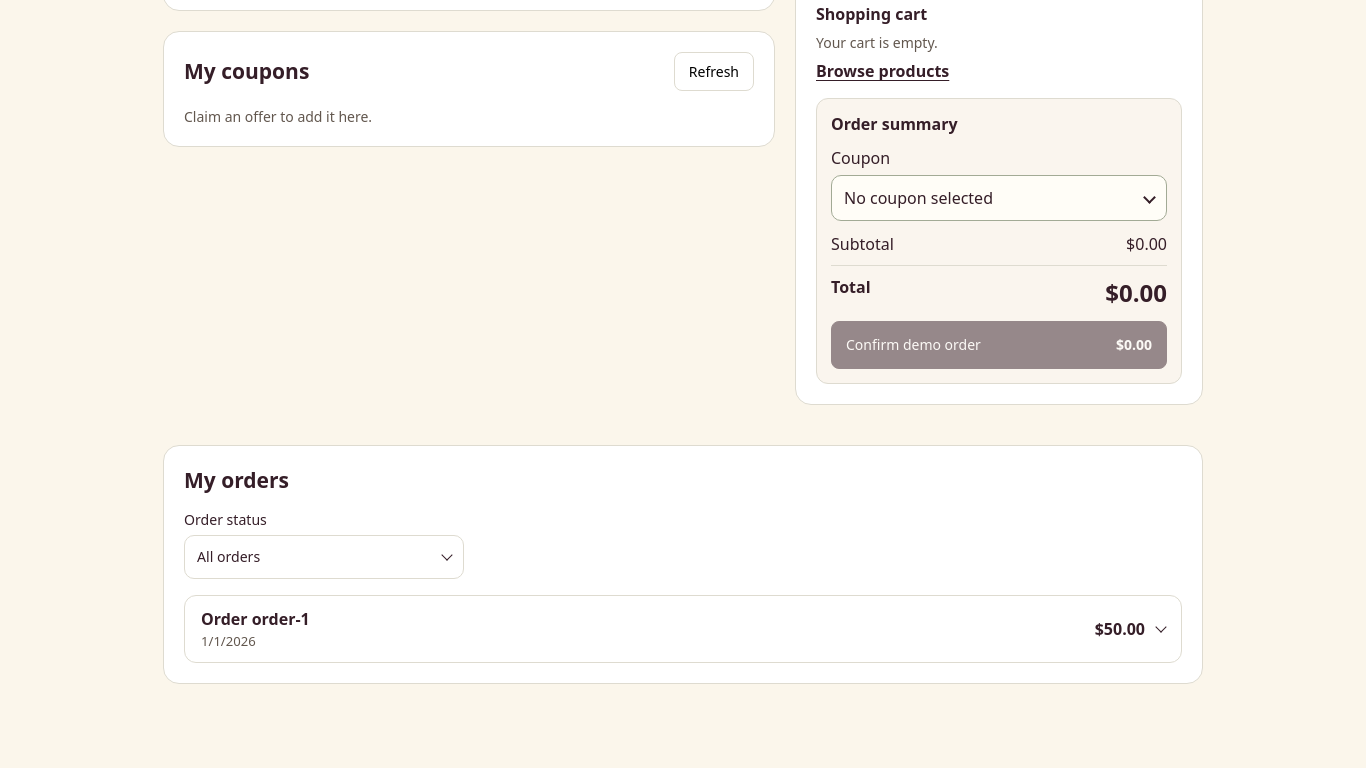
keeps an expanded receipt visible while an action refreshes the order list
(page scrolled)
Click the text "Order order-1" at (255, 619), box [201,608,310,630]
(page scrolled)
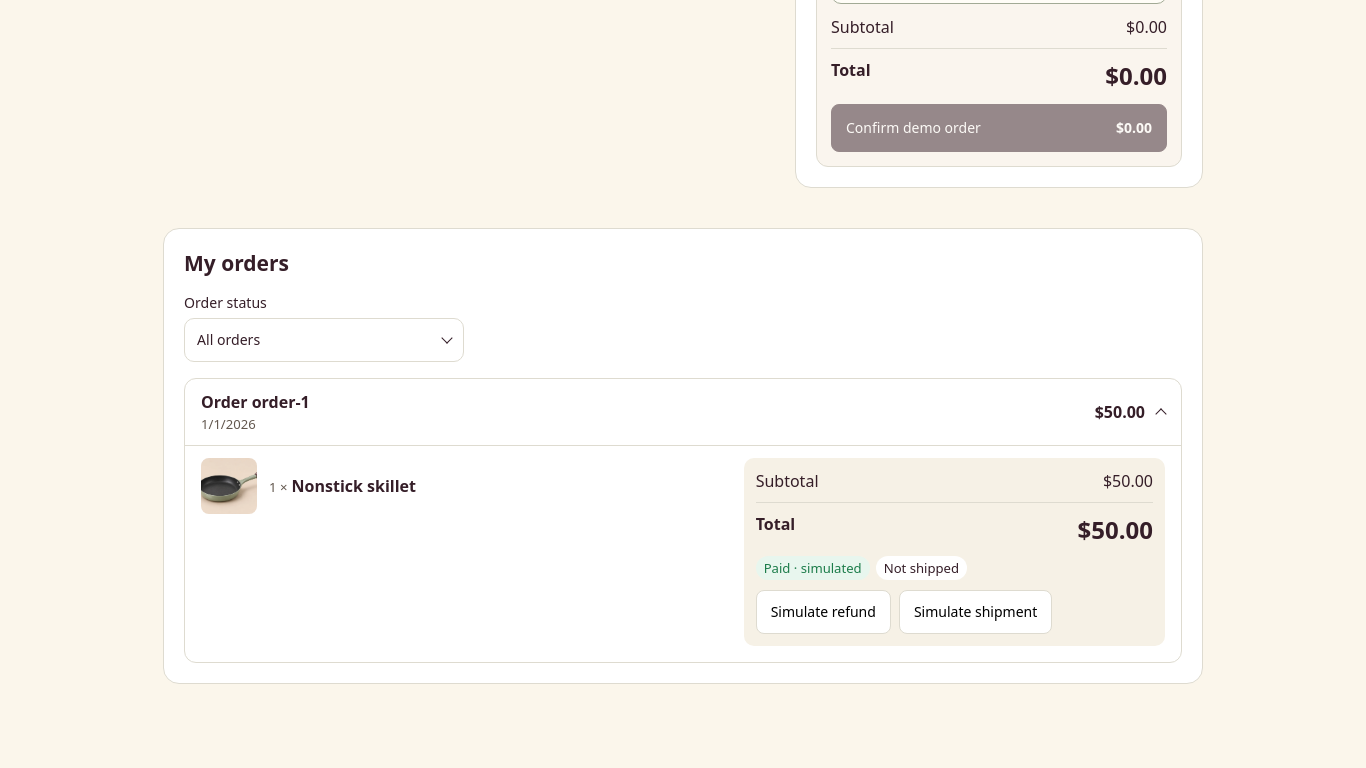
Click the button "Simulate refund" at (823, 612), box [756,590,891,634]
(page scrolled)
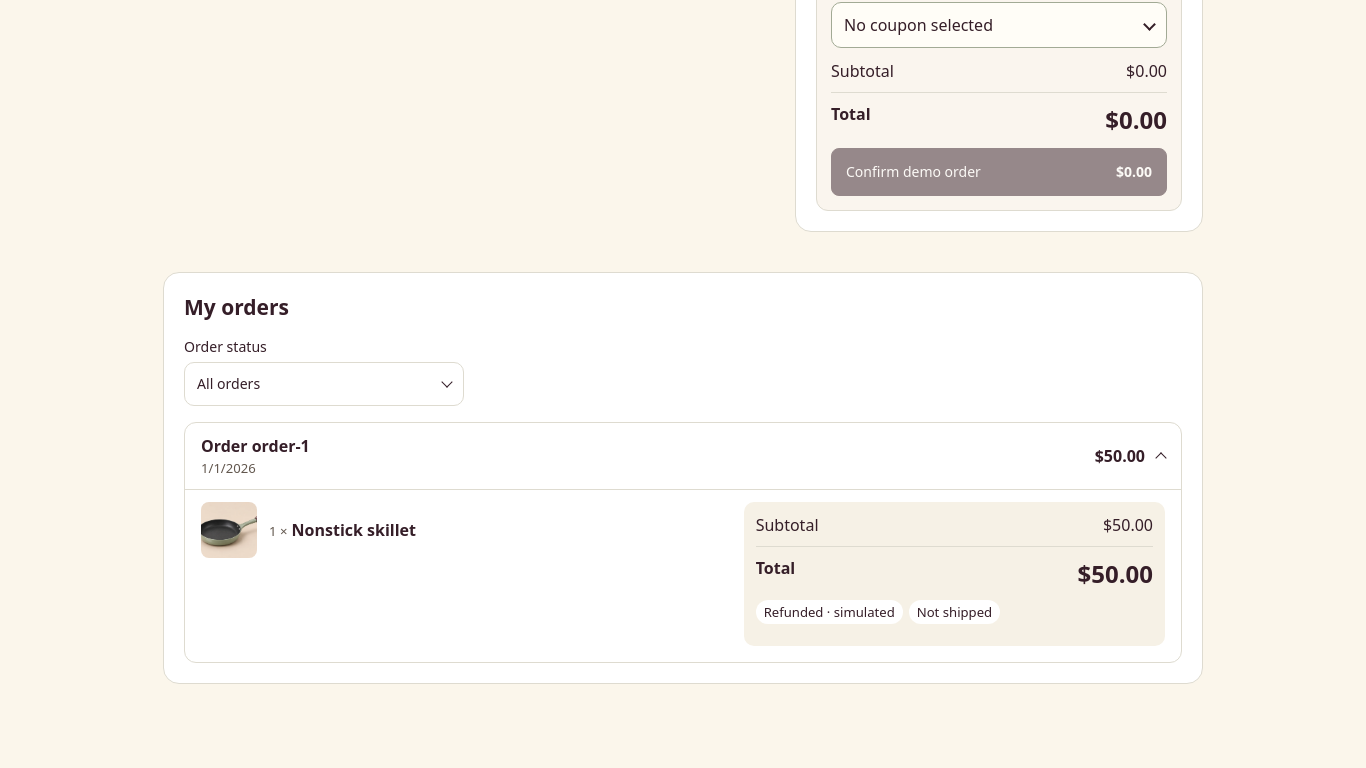
Check: the text "Refunded · simulated" is shown, box [756,600,903,624]
